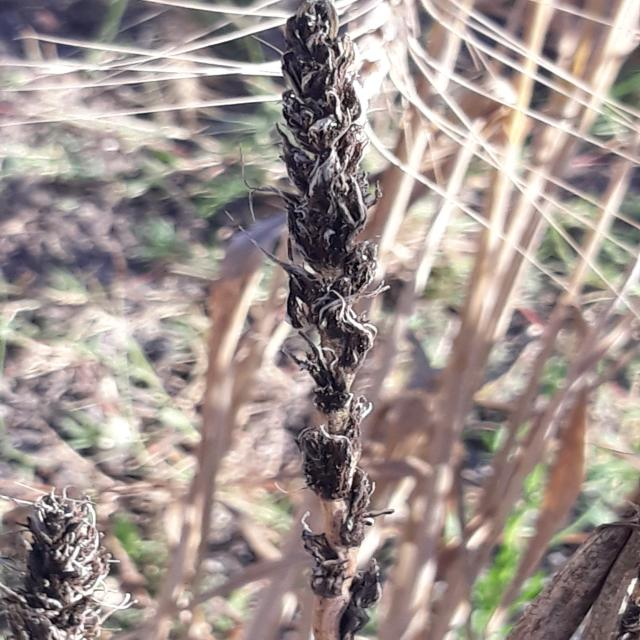loose_charred: (238, 3, 432, 640), (0, 467, 145, 640), (515, 479, 640, 640)
